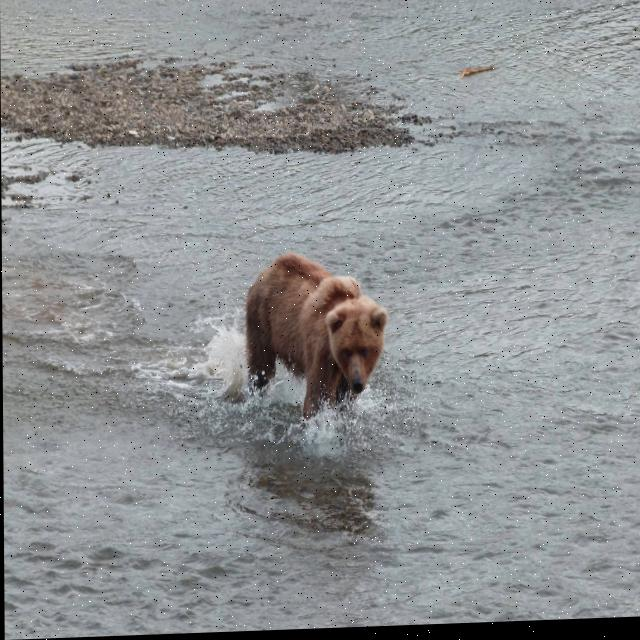bear face: (245, 255, 387, 421)
